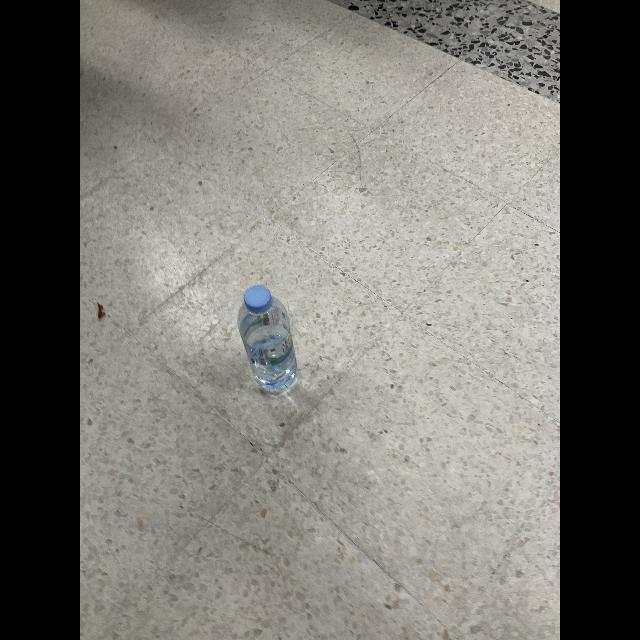plastic_bottle: (238, 286, 300, 396)
